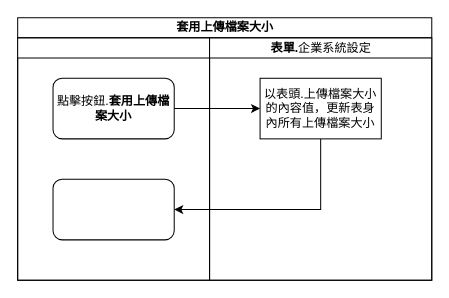
This 449x298 diagram has some shape labels left out. The box of each missing label's shape, as (x1, y1, x2, y2) in pixels:
執行結束: (52, 178, 174, 240)
站台管理員 / 企業管理者: (17, 37, 210, 280)
